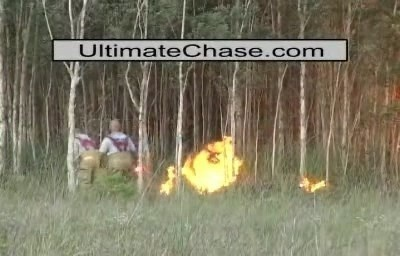fire: (157, 133, 247, 196), (296, 171, 331, 195)
